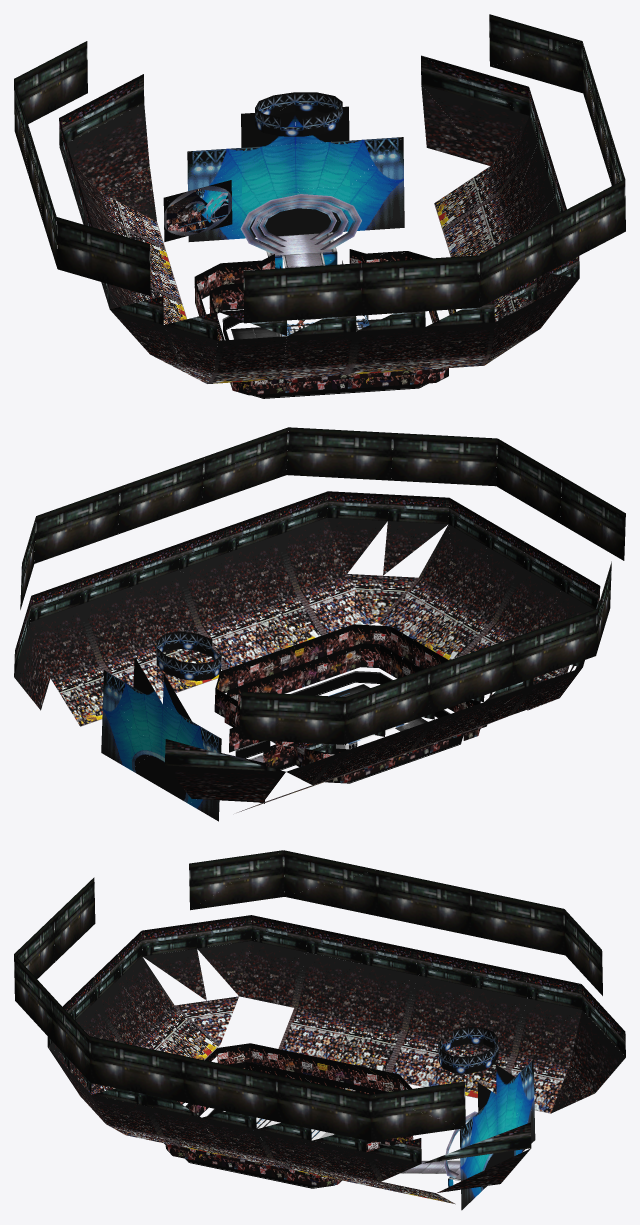
The model's file is wwe_smackdown_arena.glb.
3 renders of one model, top to bottom at view 1: azimuth 30°, elevation 25°; view 2: azimuth 150°, elevation 25°; view 3: azimuth 270°, elevation 25°, orthographic. The views are drawn at different scales.
Parts seen in each view (by area): view 1: skfb_offset; view 2: skfb_offset; view 3: skfb_offset.
Boxes of the visible parts, <box> form: skfb_offset: <box>14,14,625,398</box>; skfb_offset: <box>14,427,625,821</box>; skfb_offset: <box>14,850,625,1210</box>.
Bounding box in the file's own units: 47731 × 17578 × 50548.
Materials: 100 (99 with a texture image).
